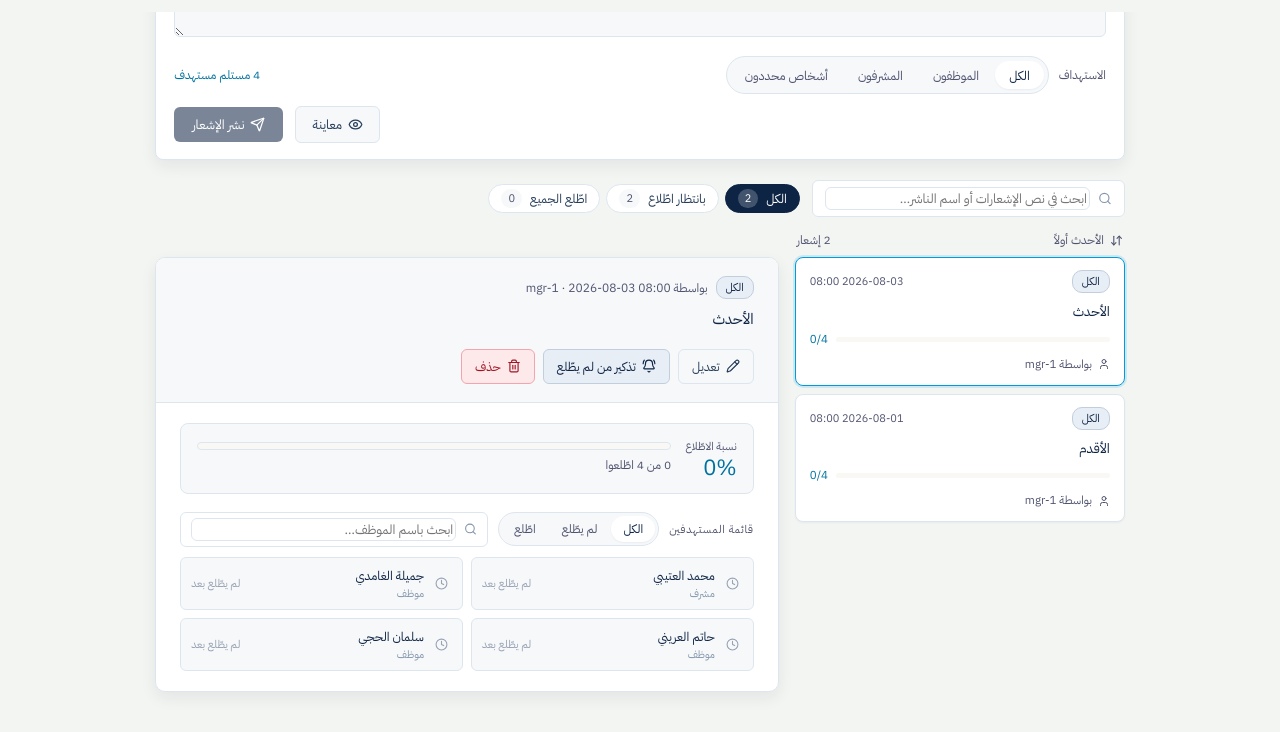
Test: NotificationManager list + selection › opens the head of the list by default and follows an explicit selection
This screenshot has width=1280, height=732.
(page scrolled)
Check: the 1st text "الأحدث" is shown, box [712,308,754,330]
Click the button "الكل 2026-08-01 08:00 الأقدم 0/4 بواسطة mgr-1".
click(1091, 418)  # box [795,394,1125,522]
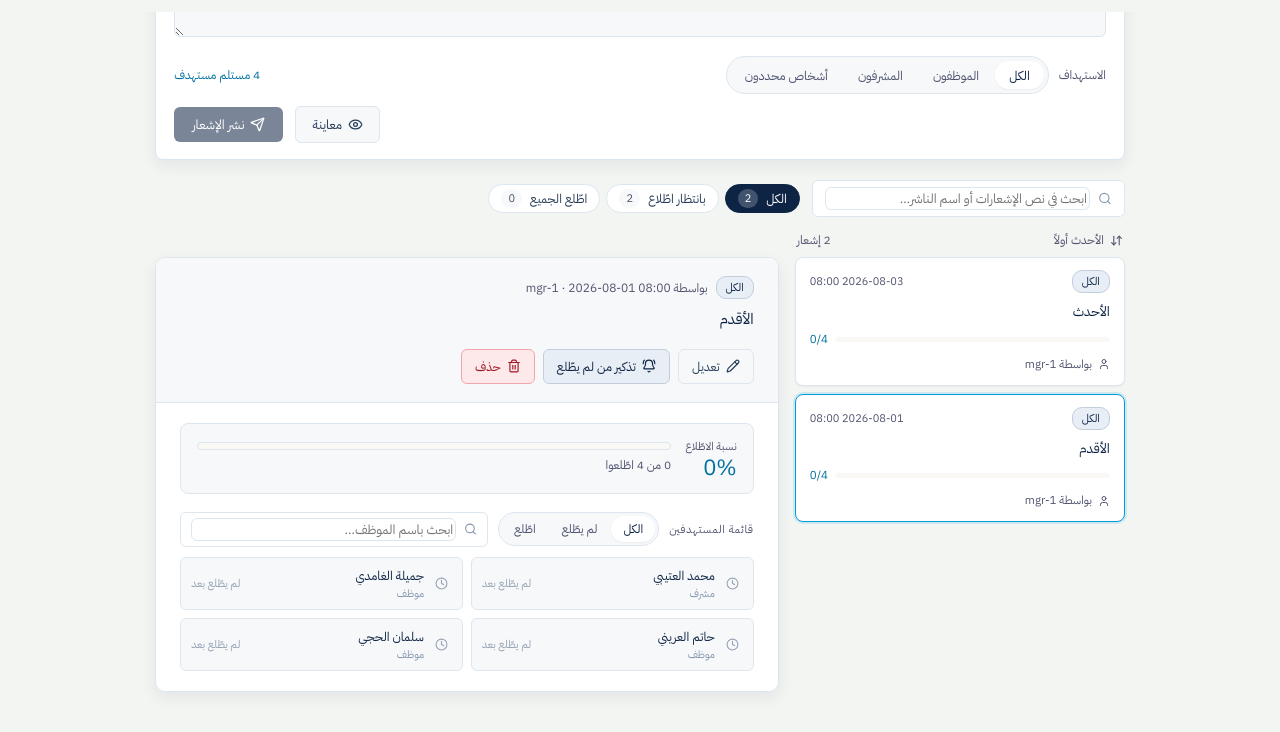
Check: the 1st text "الأقدم" is shown, box [720,308,754,330]
